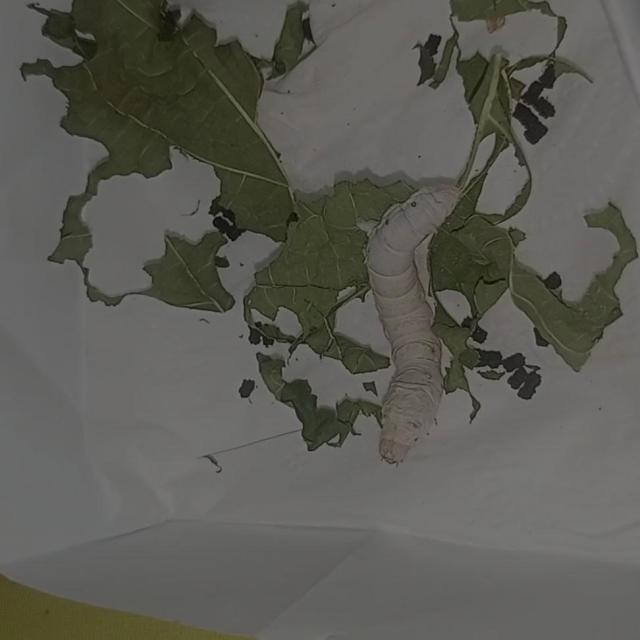Healthy: (328, 156, 485, 491)
